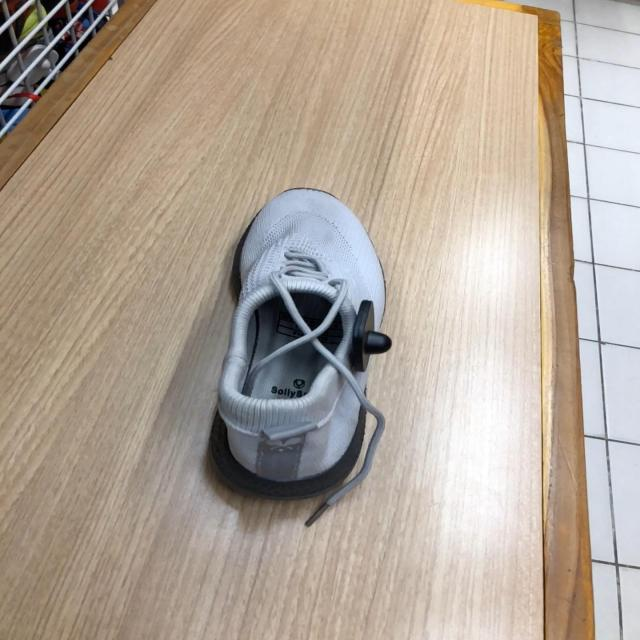shoe: (212, 189, 391, 500)
